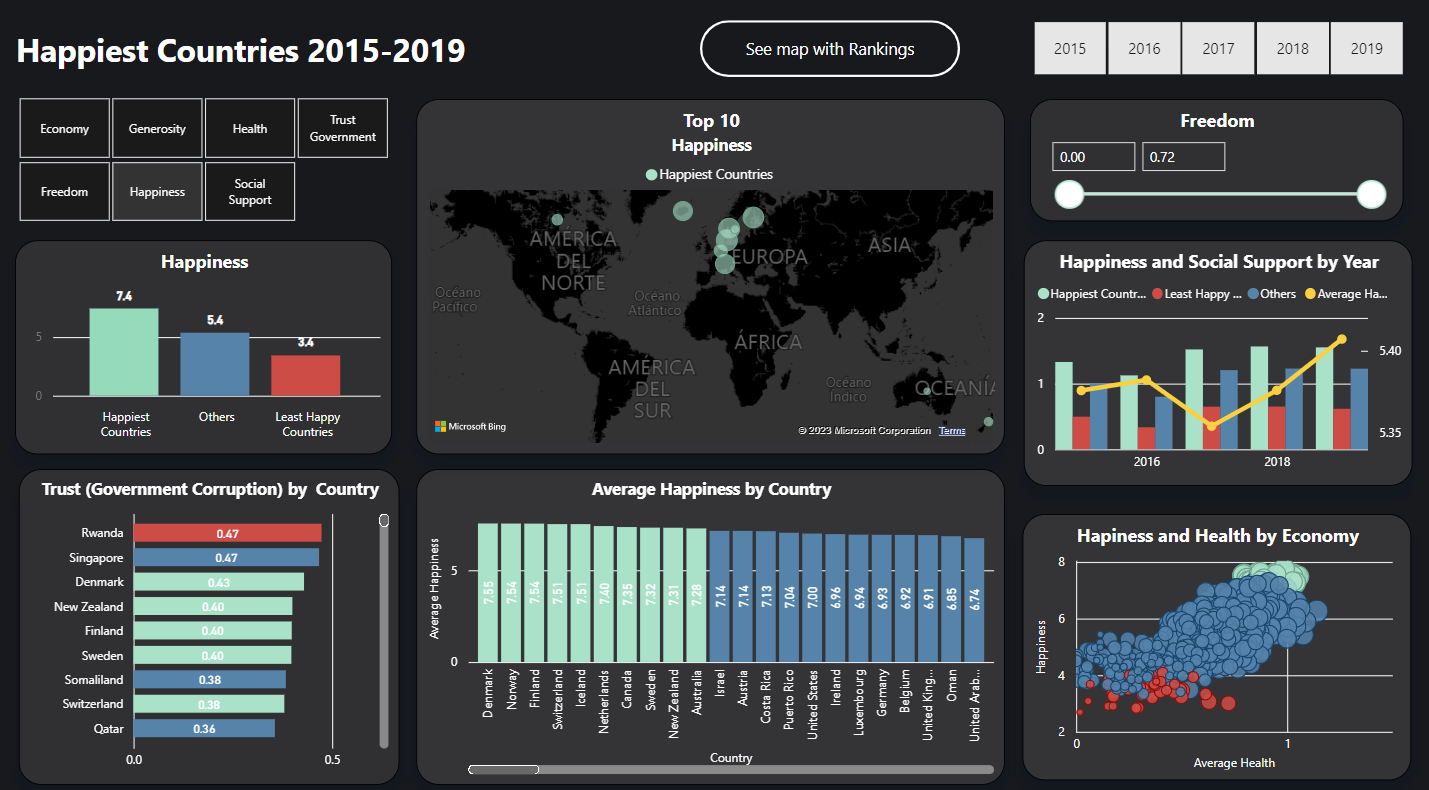

Layout of this report page (visuals, bound fields, positions):
{"tool":"powerbi","page":{"name":"World Happiness","canvas":[1280,720],"ordinal":0},"visuals":[{"type":"shape","box":[0,0,1279.6,89.2],"z":0},{"type":"scatterChart","title":"Hapiness and Health by Economy","fields":{"Y":["Happiness.Happiness"],"Size":["Avg(Happiness.Economy (GDP per Capita))"],"Series":["Happiness.Country (grupos)"],"X":["Dax Medidas .Average Health"]},"box":[917.5,457.3,345.8,237.1],"z":1000},{"type":"clusteredColumnChart","fields":{"Category":["Happiness.Country (grupos)"],"Y":["Dax Medidas .Total Selección"]},"box":[21.7,214.7,335.3,190.6],"z":3000},{"type":"slicer","title":"Freedom","fields":{"Values":["Happiness.Freedom"]},"box":[924.6,88.9,331.7,108.7],"z":4000},{"type":"columnChart","title":"Average Happiness by Country","fields":{"Category":["Happiness.Country"],"Y":["Dax Medidas .Average Happiness"],"Series":["Happiness.Country (grupos)"]},"box":[378.7,417.3,523.4,281],"z":5000},{"type":"barChart","title":"Trust (Government Corruption) by  Country","fields":{"Series":["Happiness.Country (grupos)"],"Category":["Happiness.Country"],"Y":["Dax Medidas .Average Trust(Government Corruption)"]},"box":[25.4,417.8,338.8,280.9],"z":6000},{"type":"lineClusteredColumnComboChart","title":"Happiness and Social Support by Year","fields":{"Category":["Happiness.Year"],"Y":["Dax Medidas .Average Social Support"],"Series":["Happiness.Country (grupos)"],"Y2":["Dax Medidas .Average Happiness"]},"box":[918.9,214.6,345.8,218.8],"z":7000},{"type":"slicer","fields":{"Values":["Happiness.Year"]},"box":[902.5,13.7,377.8,60.4],"z":8000},{"type":"actionButton","title":"All","box":[630.8,20.5,231.6,48.2],"z":9000},{"type":"filledMap","title":"Happiness by Country ","fields":{"Category":["Happiness.Country"]},"box":[378.7,89.2,523.4,316],"z":10000},{"type":"slicer","fields":{"Values":["metrics.Column2"]},"box":[0,81.4,377.9,123.3],"z":12000}]}

Visuals, with their boxes in screenshot pixels (x1, y1, x2, y2), scaled from the page's 1280x720 canvas onto the 1429x790 screenshot:
shape: [0, 0, 1428, 98]
"Hapiness and Health by Economy" scatterChart: [1024, 502, 1410, 762]
clusteredColumnChart - Happiness.Country (grupos) x Dax Medidas .Total Selección: [24, 236, 399, 445]
"Freedom" slicer: [1032, 98, 1403, 217]
"Average Happiness by Country" columnChart: [423, 458, 1007, 766]
"Trust (Government Corruption) by  Country" barChart: [28, 458, 407, 767]
"Happiness and Social Support by Year" lineClusteredColumnComboChart: [1026, 235, 1412, 476]
slicer - Happiness.Year: [1008, 15, 1428, 81]
"All" actionButton: [704, 22, 963, 75]
"Happiness by Country " filledMap: [423, 98, 1007, 445]
slicer - metrics.Column2: [0, 89, 422, 225]
